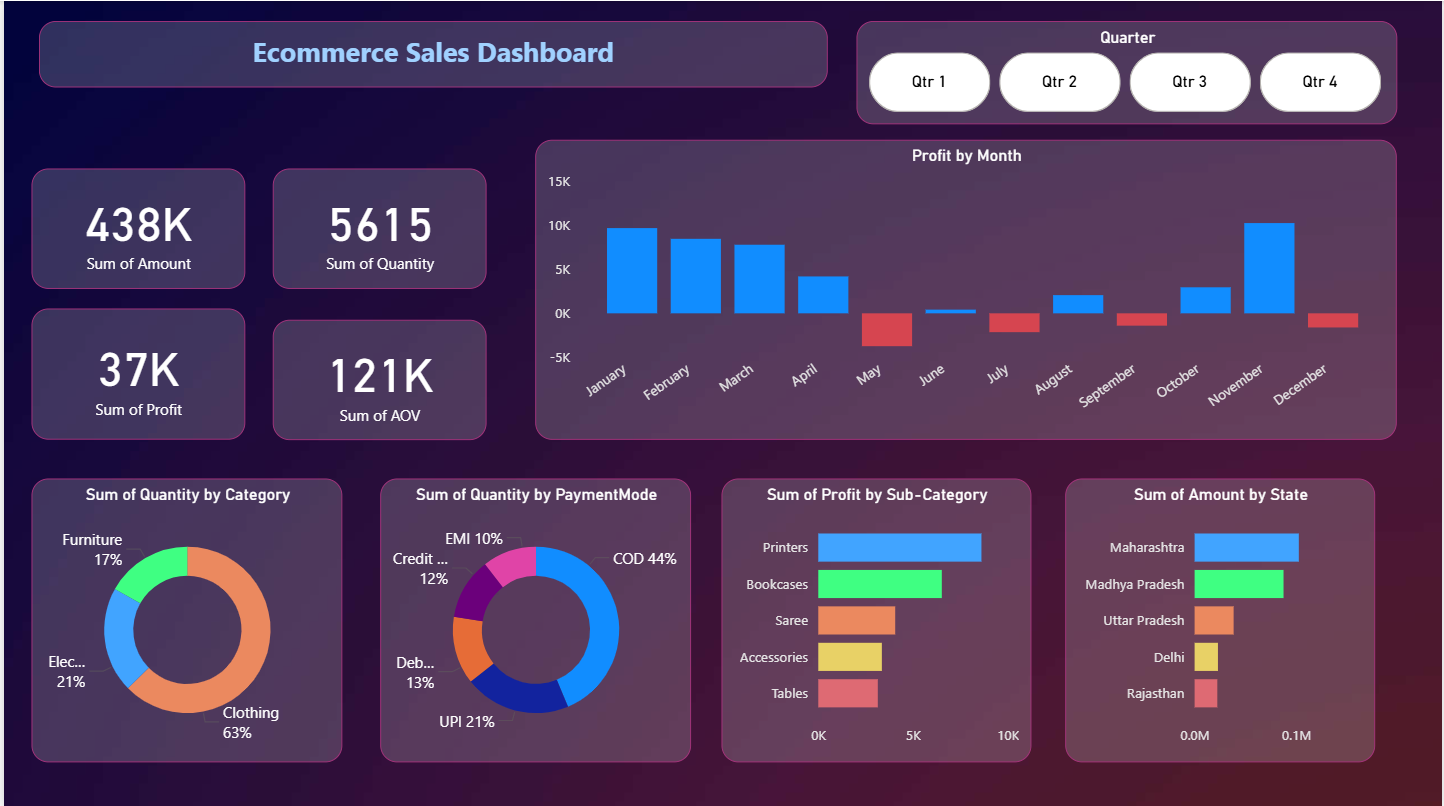

The dashboard page shown, as its layout file describes it:
{"tool":"powerbi","page":{"name":"Page 1","canvas":[1280,720],"ordinal":0},"visuals":[{"type":"textbox","box":[31.6,17.8,702.6,59],"z":0},{"type":"columnChart","title":"Profit by Month","fields":{"Category":["Orders.Order Date.Variation.Date Hierarchy.Month"],"Y":["Sum(Details.Profit)"]},"box":[473.4,123.5,767.1,267.6],"z":1000},{"type":"barChart","fields":{"Category":["Details.Sub-Category"],"Y":["Sum(Details.Profit)"]},"box":[639.5,425.4,275.8,252.5],"z":2000},{"type":"donutChart","fields":{"Category":["Details.Category"],"Y":["Sum(Details.Quantity)"]},"box":[24.7,425.4,277.2,252.5],"z":3000},{"type":"donutChart","fields":{"Category":["Details.PaymentMode"],"Y":["Sum(Details.Quantity)"]},"box":[334.8,425.4,277,252.5],"z":4000},{"type":"card","fields":{"Values":["Sum(Details.Amount)"]},"box":[24.3,149.6,190.7,107],"z":5000},{"type":"card","fields":{"Values":["Sum(Details.Quantity)"]},"box":[239.8,149.6,190.7,107],"z":6000},{"type":"card","fields":{"Values":["Sum(Details.Profit)"]},"box":[24.8,274.3,190.7,116.6],"z":7000},{"type":"card","fields":{"Values":["Sum(Details.AOV)"]},"box":[239.8,284,190.7,107],"z":8000},{"type":"barChart","fields":{"Category":["Orders.State"],"Y":["Sum(Details.Amount)"]},"box":[945.5,425.4,275.8,252.5],"z":9000},{"type":"advancedSlicerVisual","fields":{"Values":["Orders.Order Date.Variation.Date Hierarchy.Quarter"]},"box":[758.8,17.8,481.6,91.9],"z":10000}]}

Visuals, with their boxes in screenshot pixels (x1, y1, x2, y2), scaled from the page's 1280x720 canvas onto the 1444x806 screenshot:
textbox: bbox=(36, 20, 828, 86)
"Profit by Month" columnChart: bbox=(534, 138, 1399, 438)
barChart - Details.Sub-Category x Sum(Details.Profit): bbox=(721, 476, 1033, 759)
donutChart - Details.Category x Sum(Details.Quantity): bbox=(28, 476, 341, 759)
donutChart - Details.PaymentMode x Sum(Details.Quantity): bbox=(378, 476, 690, 759)
card - Sum(Details.Amount): bbox=(27, 167, 243, 287)
card - Sum(Details.Quantity): bbox=(271, 167, 486, 287)
card - Sum(Details.Profit): bbox=(28, 307, 243, 438)
card - Sum(Details.AOV): bbox=(271, 318, 486, 438)
barChart - Orders.State x Sum(Details.Amount): bbox=(1067, 476, 1378, 759)
advancedSlicerVisual - Orders.Order Date.Variation.Date Hierarchy.Quarter: bbox=(856, 20, 1399, 123)
